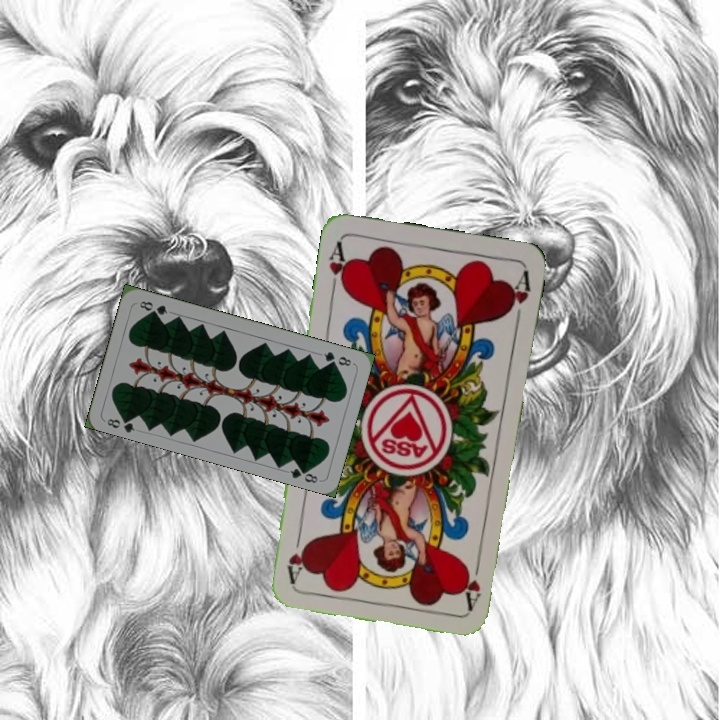G8: (103, 412, 137, 435), (319, 347, 354, 369)
HA: (458, 552, 484, 612), (325, 237, 351, 296)
